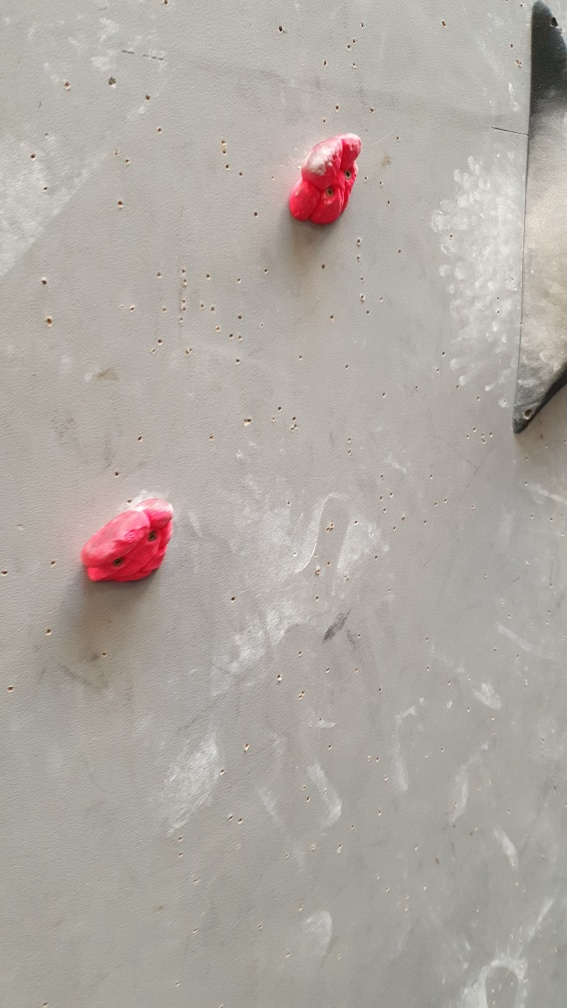Jug: (80, 490, 173, 588), (283, 127, 364, 226)
